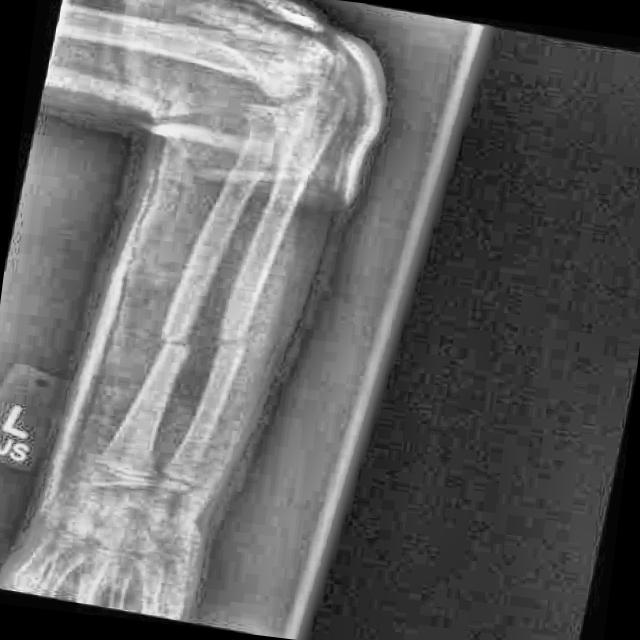forearm fracture: (120, 298, 286, 395)
